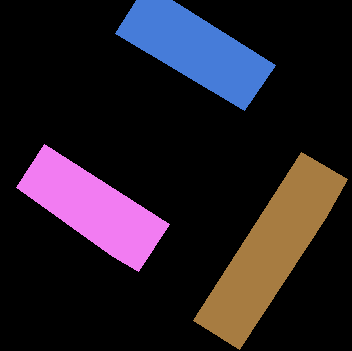parkingspot: (193, 152, 347, 349), (16, 144, 169, 271), (115, 0, 275, 110)
